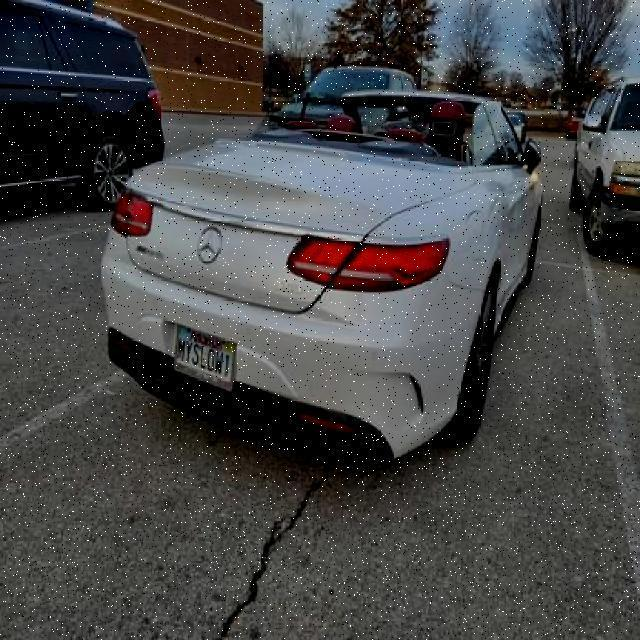LicensePlate: (169, 322, 238, 394)
